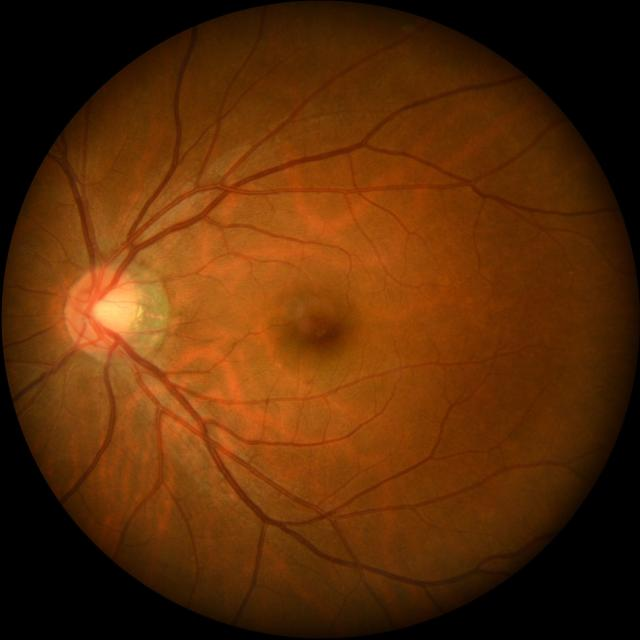OC: (87, 292, 129, 332)
OD: (65, 267, 139, 352)
